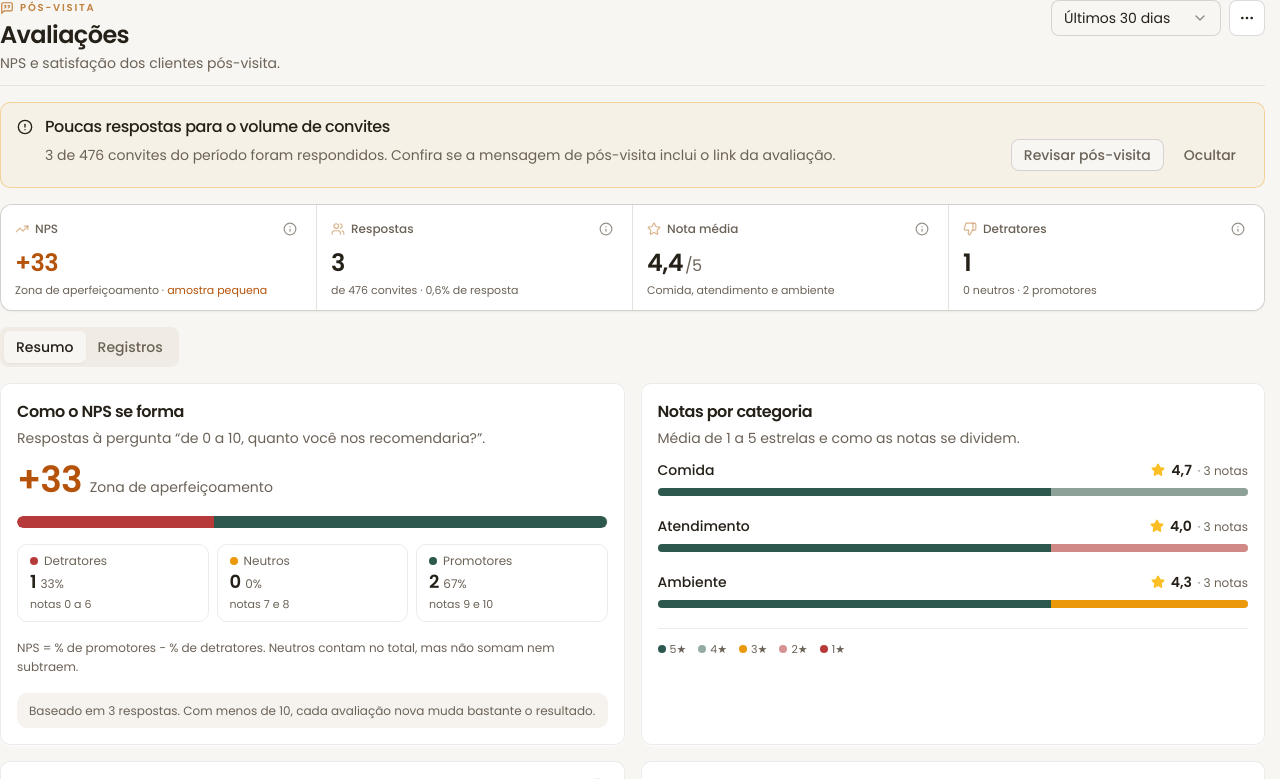
Test case: CompanyNpsReports › abre os registros nas respondidas e filtra os pendentes no servidor
This screenshot has width=1280, height=779.
Press the mouse on the tab "Registros" at (130, 347), box [86,331,175,363]
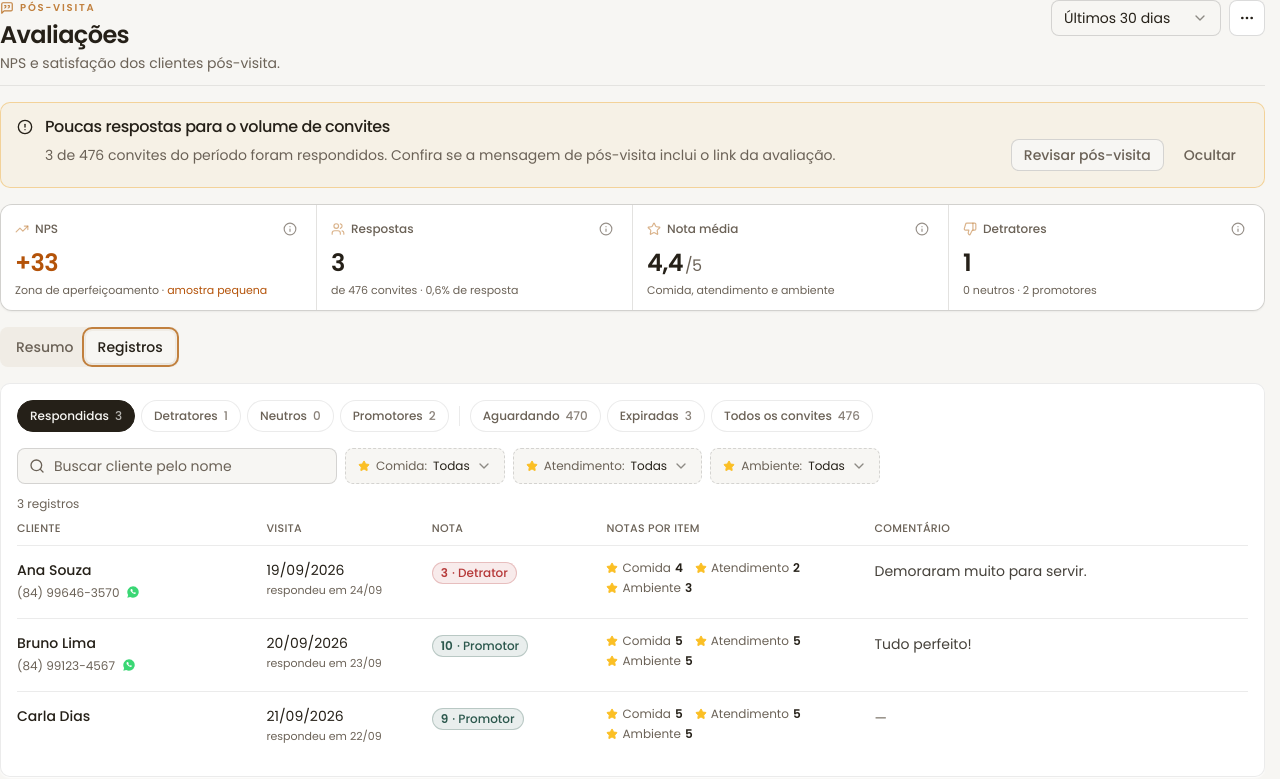
Result: the text "3 registros" is shown at [17,495,79,512]
Click the button "Aguardando 470". click: click(535, 416)
box: [470,400,601,432]
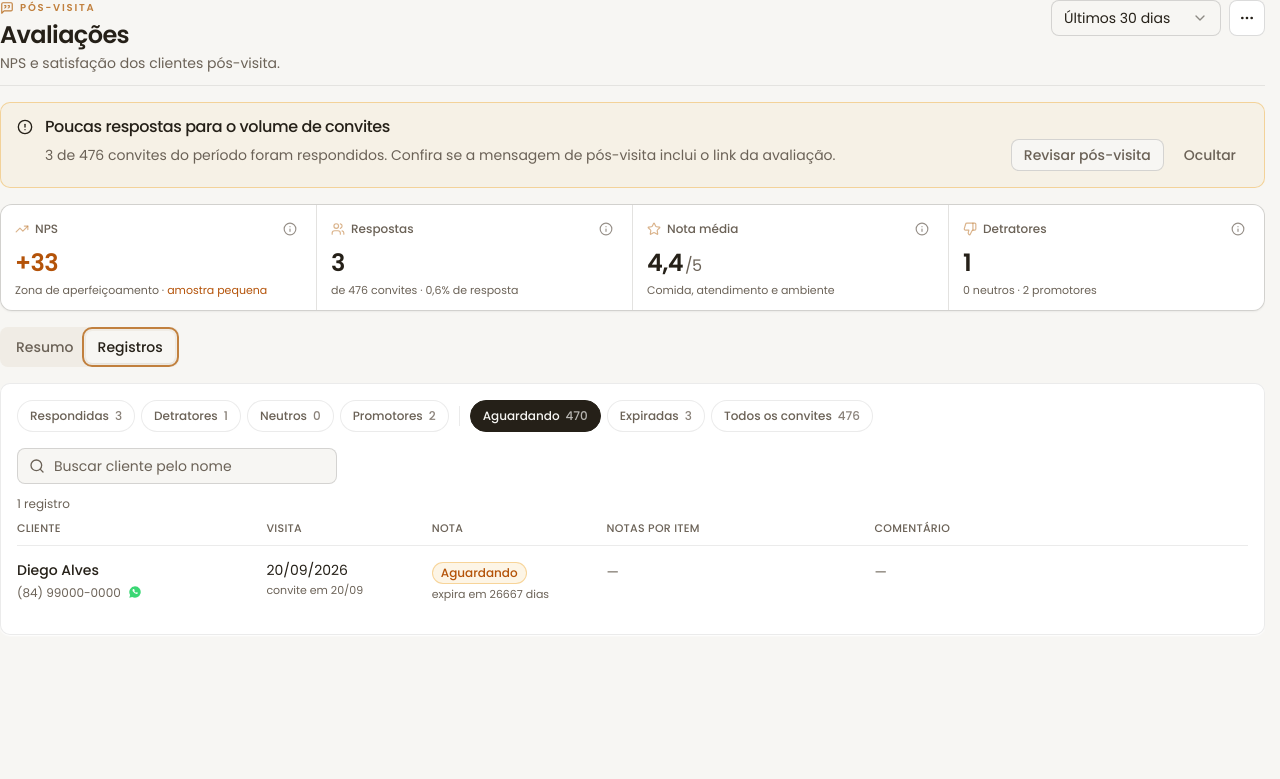
Result: the button "Aguardando 470" is shown at [470,400,601,432]
Result: the text "Diego Alves" is shown at [17,560,99,580]
